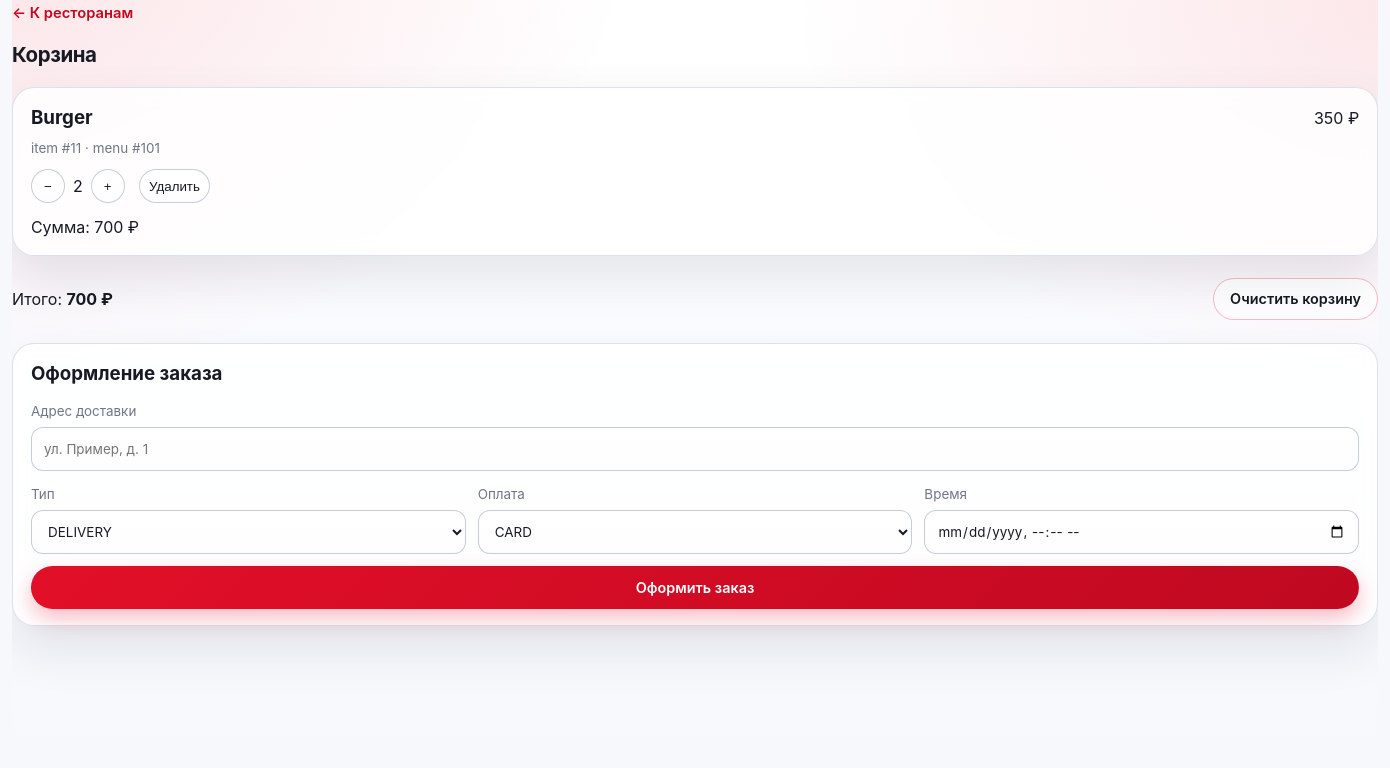
Test: CartPage › shows backend domain error on checkout failure
Expected: the heading "Burger" is shown, [31,104,93,132]
In the field with placeholder "ул. Пример, д. 1": [695, 449] box [31,427,1359,471], type "Lenina 10"
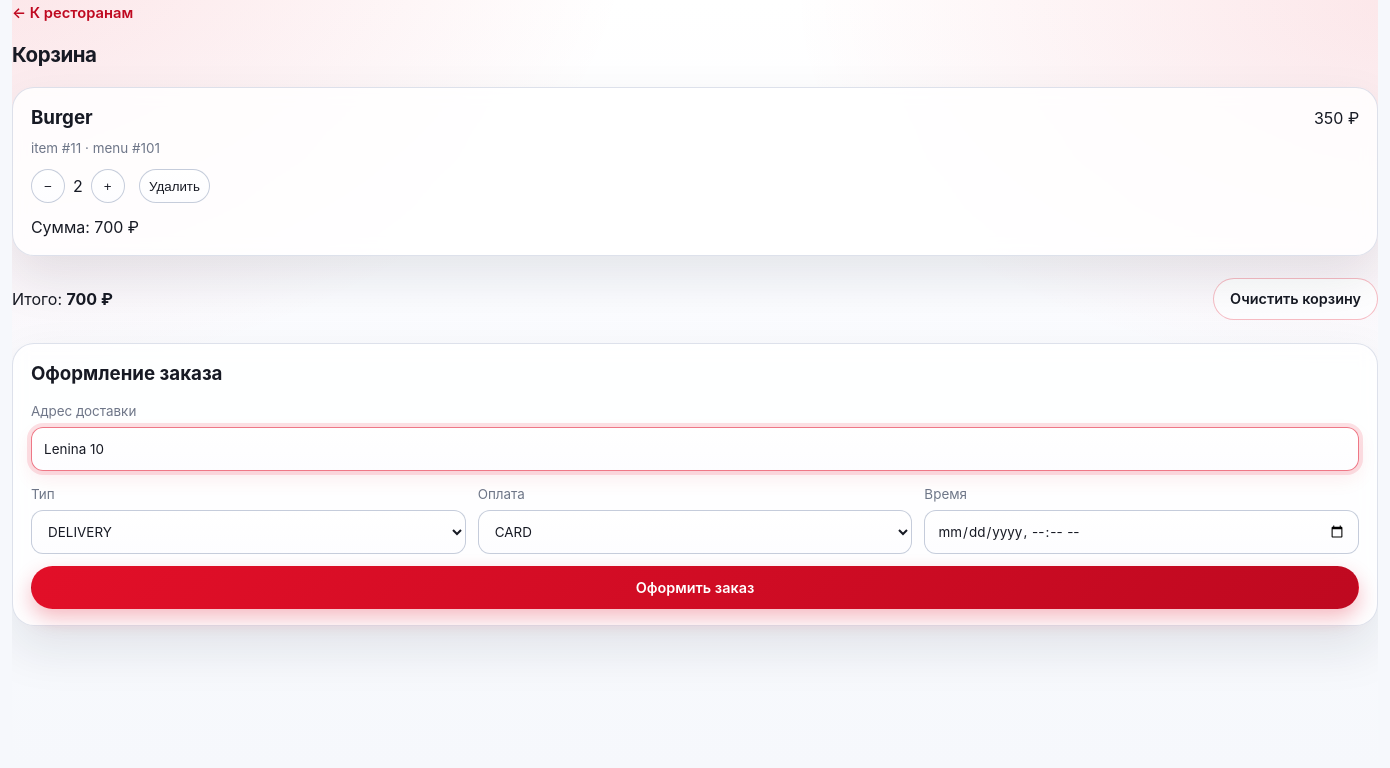
In the field labelled "Время": [1142, 532] box [924,510,1359,554], type "2026-05-01T12:30"
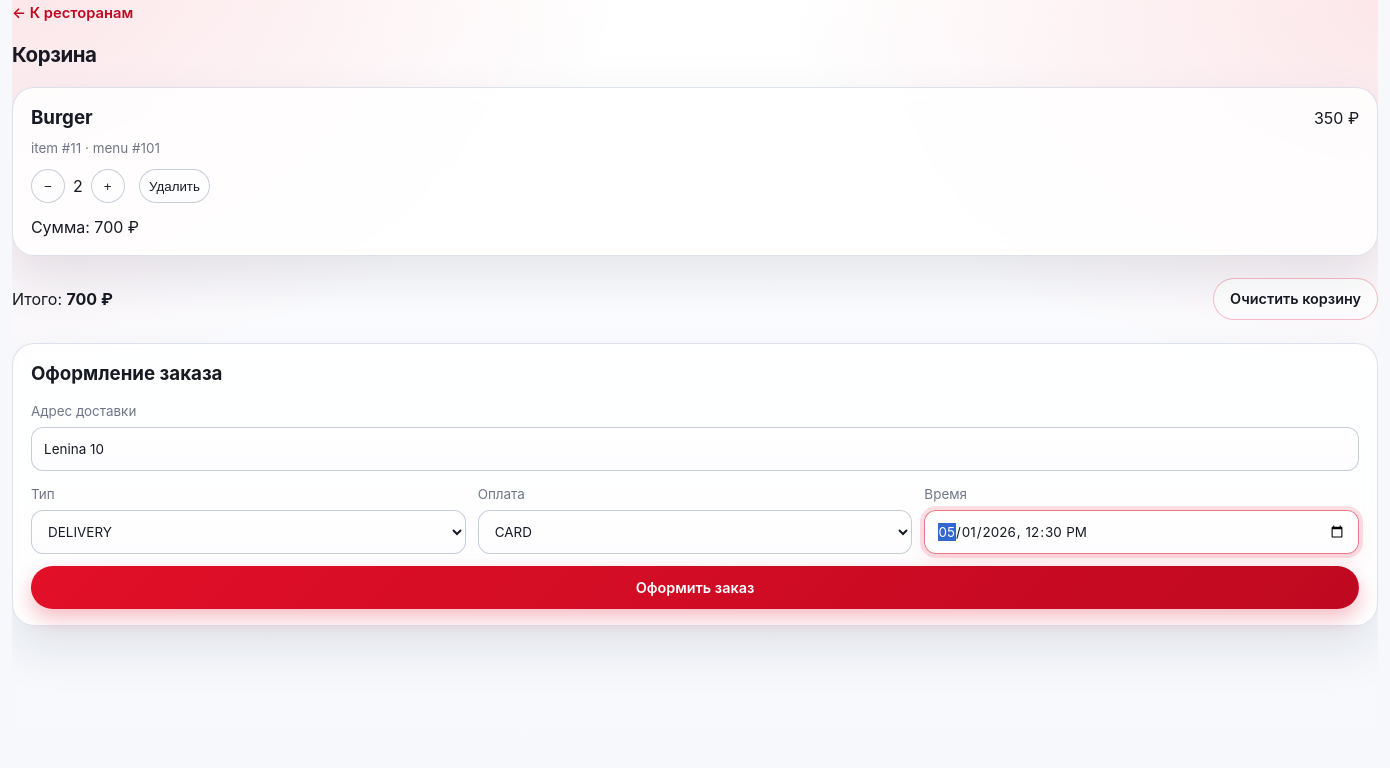
Click the button "Оформить заказ": [695, 587] box [31,566,1359,608]
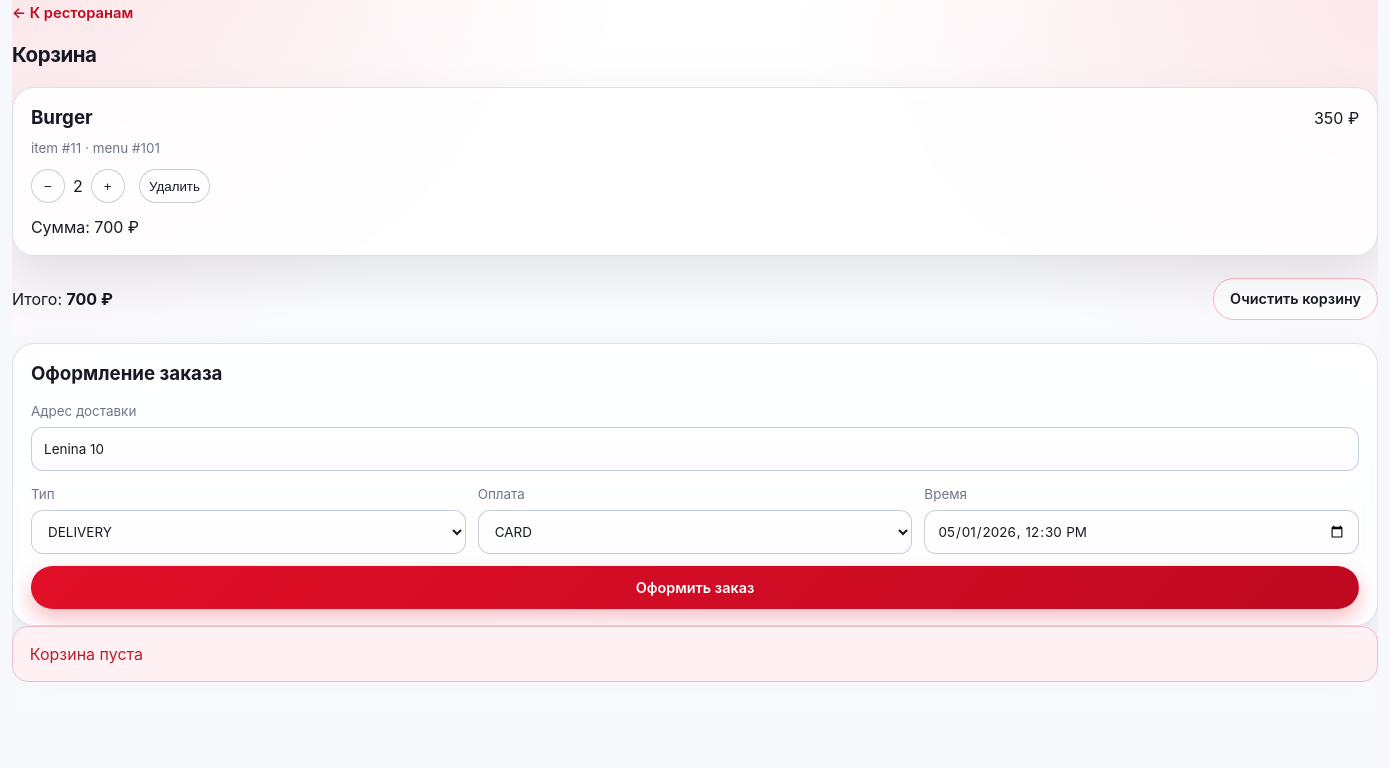
Now the message "Корзина пуста" is shown, box [12,626,1378,682]
Now the text "Корзина пуста" is shown, box [30,644,143,664]
